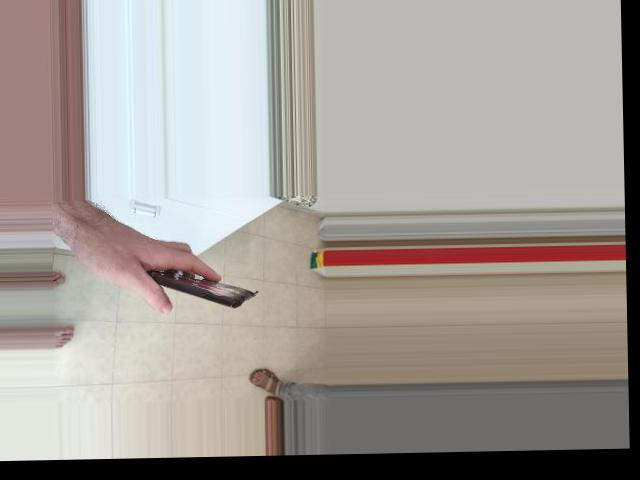chocolate: (96, 237, 261, 314)
